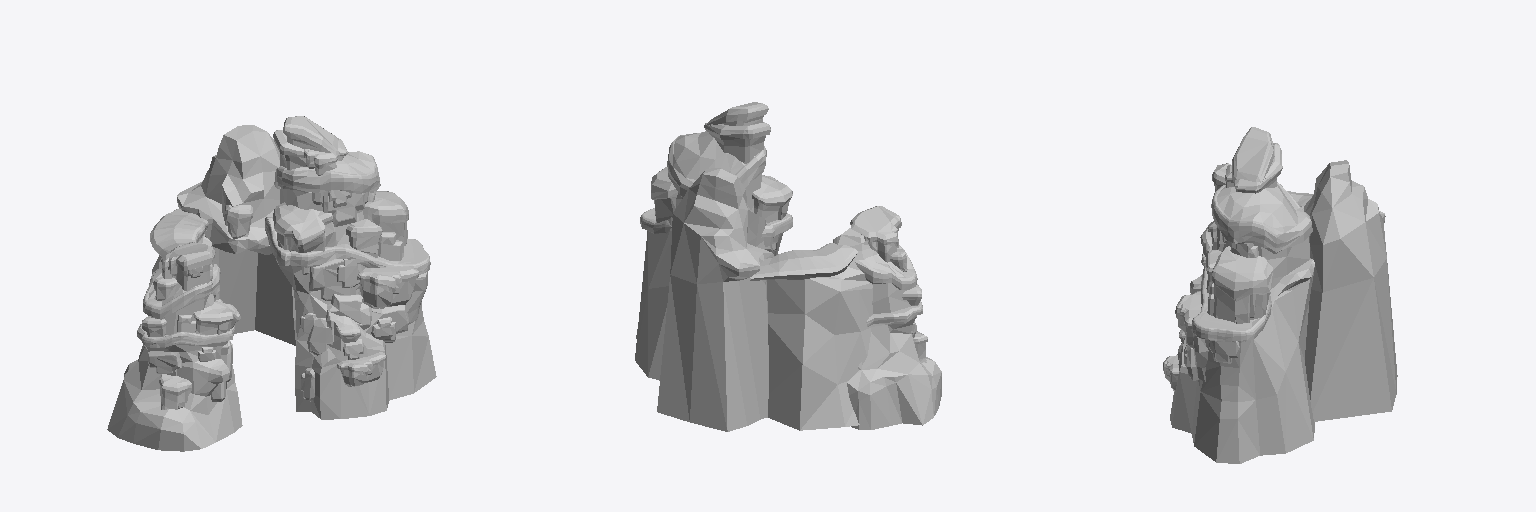
Rendered from MountainFall.obj.
3 views of the same model, side by side, from view 1: azimuth 30°, elevation 25°; view 2: azimuth 150°, elevation 25°; view 3: azimuth 270°, elevation 25° (orthographic).
Visible parts, largest first — view 1: ghz03far_km1_WhitefallBrock_02.001; view 2: ghz03far_km1_WhitefallBrock_02.001; view 3: ghz03far_km1_WhitefallBrock_02.001.
Boxes of the visible parts, <box> form: ghz03far_km1_WhitefallBrock_02.001: <box>107,116,436,451</box>; ghz03far_km1_WhitefallBrock_02.001: <box>635,102,941,431</box>; ghz03far_km1_WhitefallBrock_02.001: <box>1163,127,1397,463</box>.
Size of the model in its own units: 1.75 by 1.51 by 1.17.